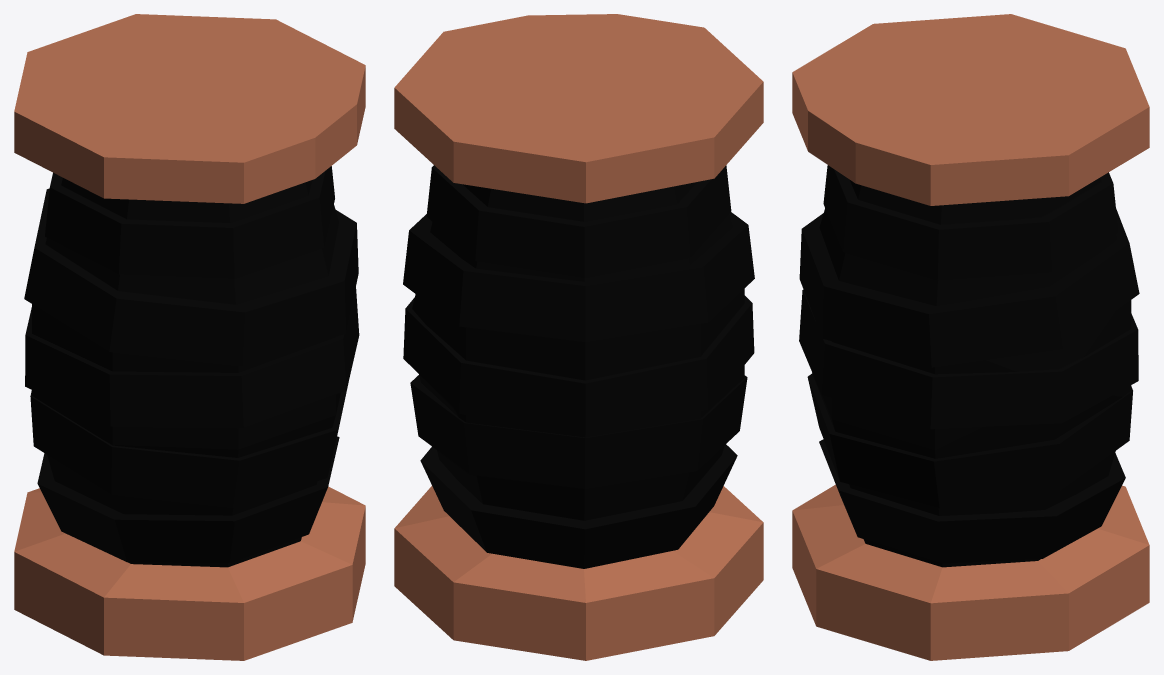
File: Thread 03.fbx
3 renders of one model, left to right at view 1: azimuth 30°, elevation 25°; view 2: azimuth 150°, elevation 25°; view 3: azimuth 270°, elevation 25°, orthographic.
Visible parts, largest first — view 1: Thread 01.002; view 2: Thread 01.002; view 3: Thread 01.002.
Boxes of the visible parts, <box> form: Thread 01.002: <box>14,14,365,660</box>; Thread 01.002: <box>394,14,763,660</box>; Thread 01.002: <box>792,14,1149,660</box>.
Size of the model in its own units: 32.37 by 49.53 by 32.34.
